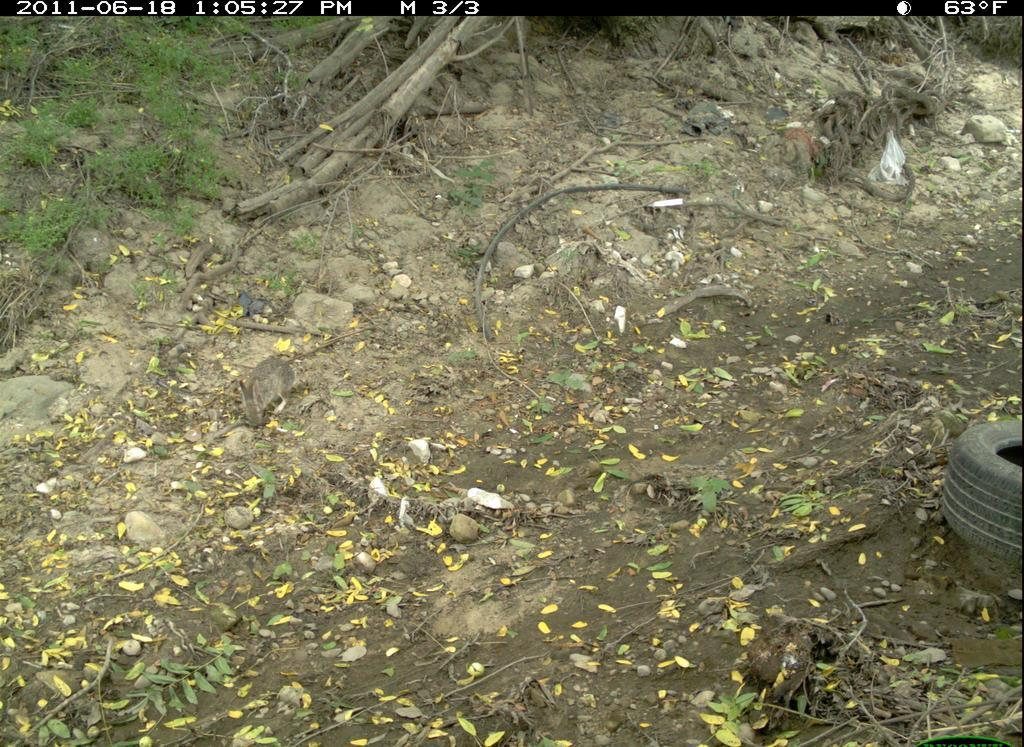rabbit: (231, 355, 301, 431)
